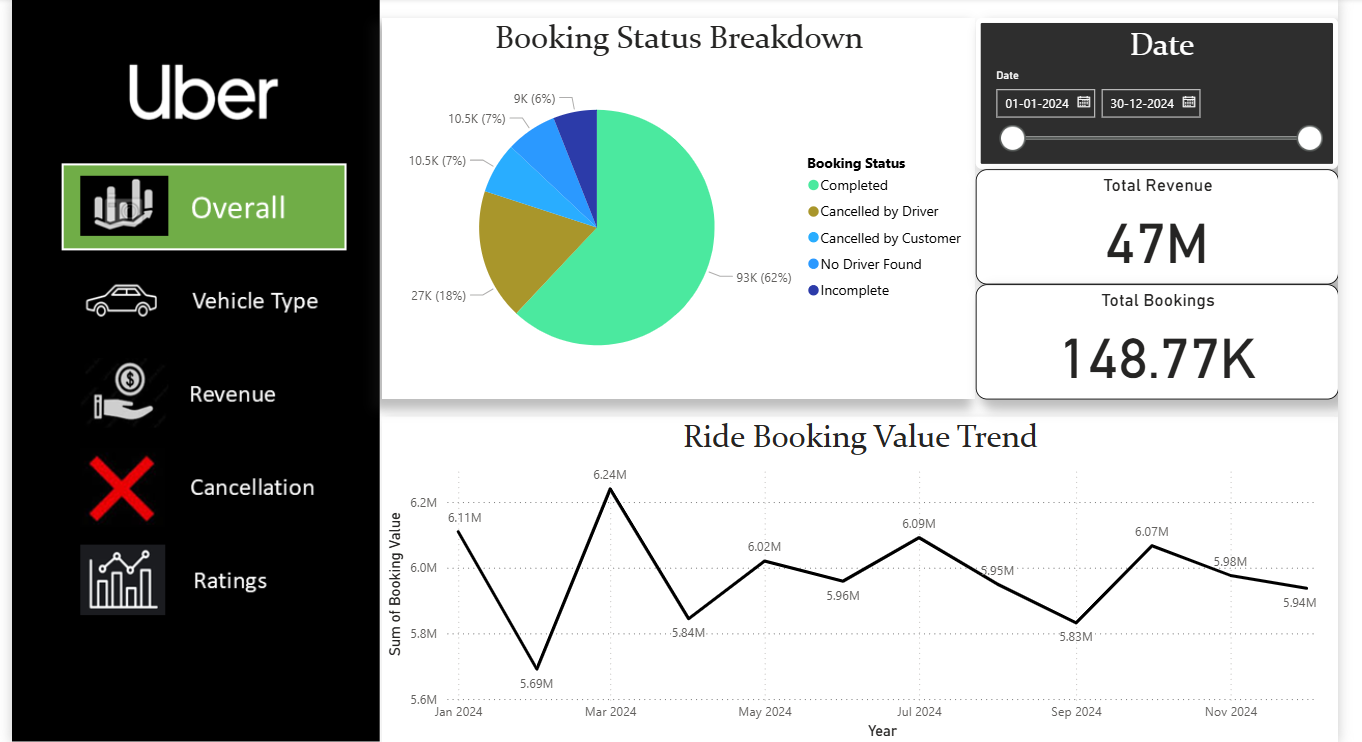

Layout of this report page (visuals, bound fields, positions):
{"tool":"powerbi","page":{"name":"Overall","canvas":[1280,720],"ordinal":0},"visuals":[{"type":"actionButton","box":[49.4,253.9,275.8,78.2],"z":0},{"type":"lineChart","title":"Ride Booking Value Trend ","fields":{"Category":["cleaned_data.Date.Variation.Date Hierarchy.Year","cleaned_data.Date.Variation.Date Hierarchy.Quarter","cleaned_data.Date.Variation.Date Hierarchy.Month","cleaned_data.Date.Variation.Date Hierarchy.Day"],"Y":["Sum(cleaned_data.Booking Value)"]},"box":[356.8,403.6,923.5,316.4],"z":1000},{"type":"pieChart","title":"Booking Status Breakdown","fields":{"Category":["cleaned_data.Booking Status"],"Y":["CountNonNull(cleaned_data.Booking Status)"]},"box":[356.8,19.4,573.2,368.1],"z":2000},{"type":"slicer","title":"Date","fields":{"Values":["cleaned_data.Date"]},"box":[930.4,19.2,349.9,145.5],"z":3000},{"type":"card","title":"Total Revenue","fields":{"Values":["Sum(cleaned_data.Booking Value)"]},"box":[930,164.7,350.4,111.4],"z":4000},{"type":"card","title":"Total Bookings","fields":{"Values":["Count(ncr_ride_bookings.Booking ID)"]},"box":[930,276.1,350.4,111.4],"z":5000}]}

Visuals, with their boxes on the page's 1280x720 design canvas (x1, y1, x2, y2). These are canvas units, not pixel positions in the 1362x742 screenshot, which may show the page scaled, cropped or inside an application window:
actionButton: {"left": 49, "top": 254, "right": 325, "bottom": 332}
"Ride Booking Value Trend " lineChart: {"left": 357, "top": 404, "right": 1280, "bottom": 720}
"Booking Status Breakdown" pieChart: {"left": 357, "top": 19, "right": 930, "bottom": 388}
"Date" slicer: {"left": 930, "top": 19, "right": 1280, "bottom": 165}
"Total Revenue" card: {"left": 930, "top": 165, "right": 1280, "bottom": 276}
"Total Bookings" card: {"left": 930, "top": 276, "right": 1280, "bottom": 388}
